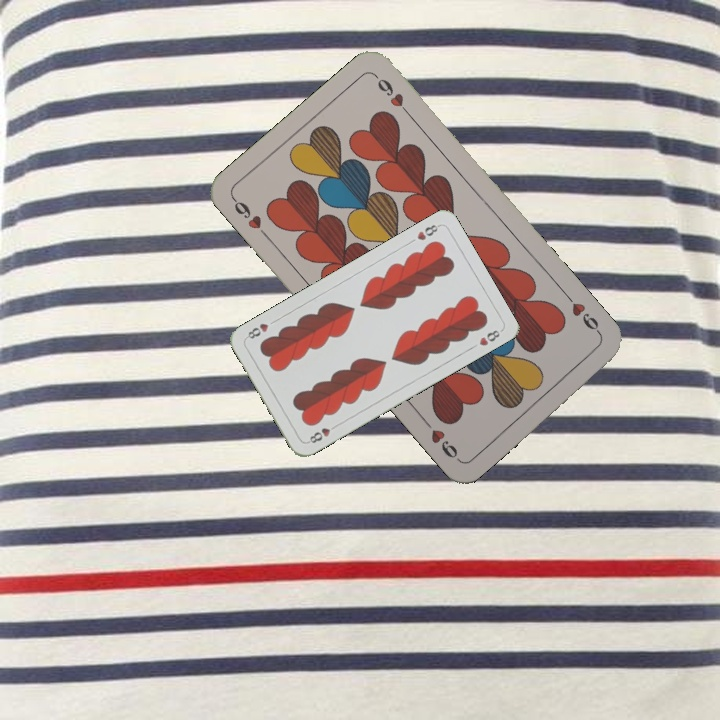H8: (303, 420, 341, 446), (413, 220, 443, 243)
H9: (228, 194, 273, 242), (561, 290, 605, 339)
